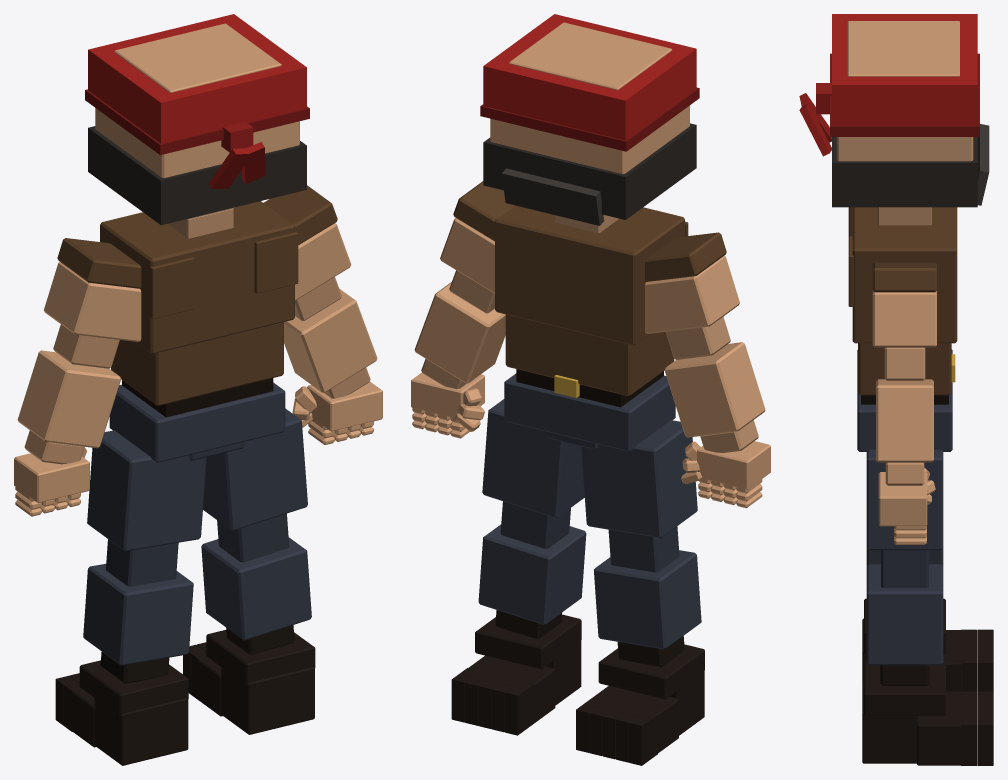
The model's file is bandido.glb.
3 views of the same model, side by side, from view 1: azimuth 30°, elevation 25°; view 2: azimuth 150°, elevation 25°; view 3: azimuth 270°, elevation 25° (orthographic). The views are drawn at different scales.
Visible parts, largest first — view 1: Geo_Chest_Runtime, Bandana, Geo_Thigh_L_Runtime, Mascara, Geo_Abdomen_Runtime, Geo_Shin_L_Runtime, Geo_Shin_R_Runtime, Geo_Thigh_R_Runtime, Geo_Pelvis_Runtime, Geo_ForeArm_L_Runtime, Geo_HeadTop_Runtime, Geo_ForeArm_R_Runtime (+29 smaller); view 2: Geo_Chest_Runtime, Bandana, Geo_Thigh_L_Runtime, Geo_Abdomen_Runtime, Geo_Shin_L_Runtime, Geo_Shin_R_Runtime, Geo_Thigh_R_Runtime, Mascara, Geo_Pelvis_Runtime, Geo_ForeArm_L_Runtime, Geo_HeadTop_Runtime, Geo_ForeArm_R_Runtime (+34 smaller); view 3: Bandana, Geo_Chest_Runtime, Mascara, Geo_Shin_R_Runtime, Geo_HeadTop_Runtime, Geo_ForeArm_R_Runtime, Geo_UpperArm_R_Runtime, Geo_Head_Runtime, Geo_Thigh_R_Runtime, Geo_AnkleCuff_R_Runtime, Geo_Heel_R_Runtime, Geo_Foot_R_Runtime (+21 smaller).
Part boxes in pixels (x1,y1,x2,y2): Geo_Chest_Runtime: (100, 201, 294, 353); Bandana: (88, 14, 306, 143); Geo_Thigh_L_Runtime: (87, 430, 206, 551); Mascara: (88, 126, 306, 225); Geo_Abdomen_Runtime: (111, 322, 283, 405); Geo_Shin_L_Runtime: (83, 563, 193, 665); Geo_Shin_R_Runtime: (201, 537, 311, 640); Geo_Thigh_R_Runtime: (203, 408, 307, 530); Geo_Pelvis_Runtime: (109, 382, 285, 462); Geo_ForeArm_L_Runtime: (17, 350, 120, 448); Geo_HeadTop_Runtime: (114, 23, 281, 92); Geo_ForeArm_R_Runtime: (284, 288, 377, 392); Geo_Chest_Runtime: (495, 205, 684, 345); Bandana: (483, 14, 696, 140); Geo_Thigh_L_Runtime: (581, 420, 697, 538); Geo_Abdomen_Runtime: (505, 314, 674, 396); Geo_Shin_L_Runtime: (594, 550, 701, 649); Geo_Shin_R_Runtime: (478, 524, 586, 624); Geo_Thigh_R_Runtime: (482, 399, 584, 518); Mascara: (483, 123, 696, 219); Geo_Pelvis_Runtime: (504, 373, 675, 451); Geo_ForeArm_L_Runtime: (664, 342, 765, 437); Geo_HeadTop_Runtime: (509, 22, 672, 89); Geo_ForeArm_R_Runtime: (414, 282, 505, 383); Bandana: (832, 14, 977, 125); Geo_Chest_Runtime: (852, 207, 957, 343); Mascara: (832, 137, 977, 207); Geo_Shin_R_Runtime: (866, 564, 943, 665); Geo_HeadTop_Runtime: (847, 21, 959, 76); Geo_ForeArm_R_Runtime: (876, 379, 933, 462); Geo_UpperArm_R_Runtime: (872, 290, 936, 347); Geo_Head_Runtime: (836, 137, 973, 161); Geo_Thigh_R_Runtime: (866, 449, 943, 550); Geo_AnkleCuff_R_Runtime: (864, 660, 945, 715); Geo_Heel_R_Runtime: (862, 680, 918, 763); Geo_Foot_R_Runtime: (917, 691, 961, 765).
Size of the model in its own units: 1.07 by 1.98 by 0.5185.
